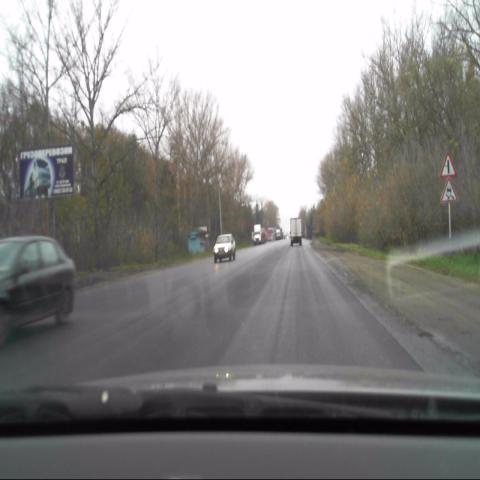1_15: (439, 178, 458, 202)
2_3_3: (440, 152, 456, 179)
